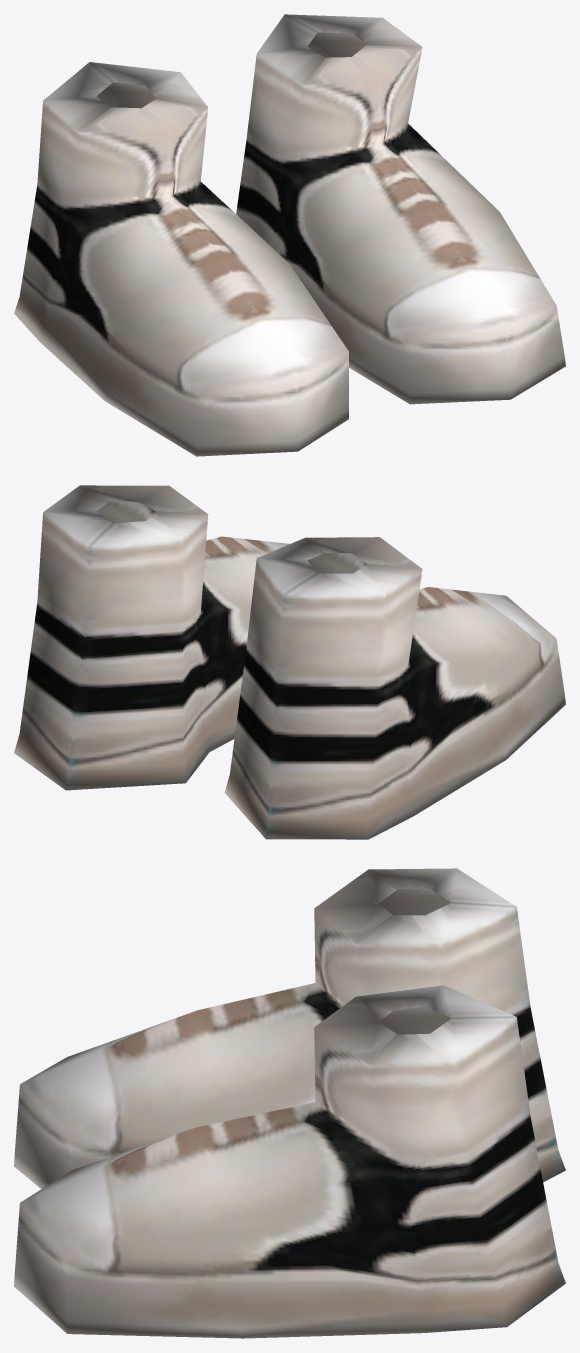
File: AF_M_Shoes_04.FBX
3 views of the same model, one above another, from view 1: azimuth 30°, elevation 25°; view 2: azimuth 150°, elevation 25°; view 3: azimuth 270°, elevation 25° (orthographic). The views are drawn at different scales.
Parts seen in each view (by area): view 1: AF_M_Shoes_04; view 2: AF_M_Shoes_04; view 3: AF_M_Shoes_04.
Boxes of the visible parts, bbox=[...] form: AF_M_Shoes_04: bbox=[14, 14, 565, 456]; AF_M_Shoes_04: bbox=[14, 485, 565, 839]; AF_M_Shoes_04: bbox=[14, 868, 565, 1338].
Bounding box in the file's own units: 335 × 187 × 345.
Materials: 1 (1 with a texture image).
